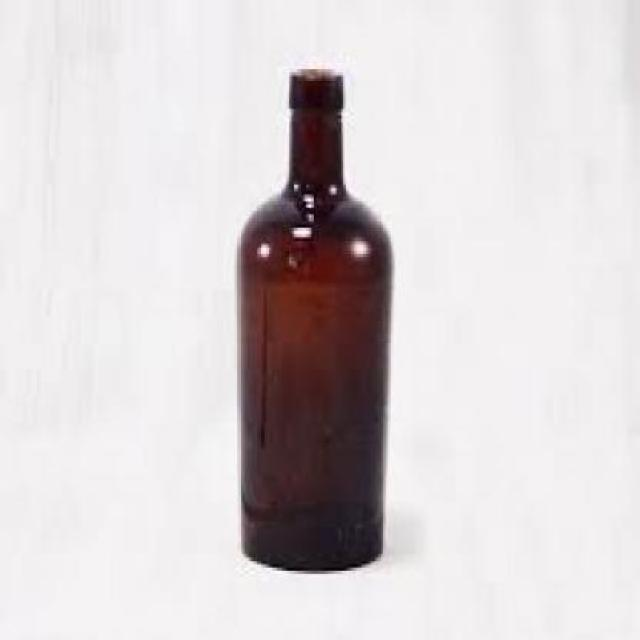kaca: (232, 69, 388, 568)
